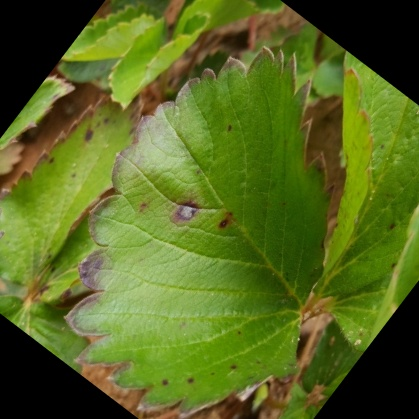Leaf_Spot: (97, 31, 379, 411), (223, 0, 418, 301), (29, 157, 119, 391), (34, 282, 148, 391)
